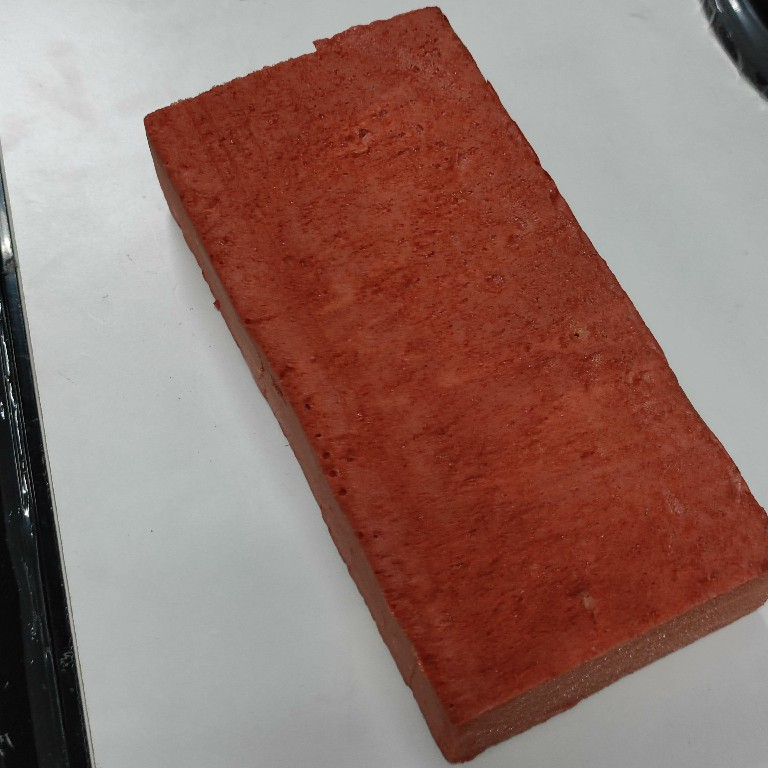brick: (142, 5, 768, 768)
